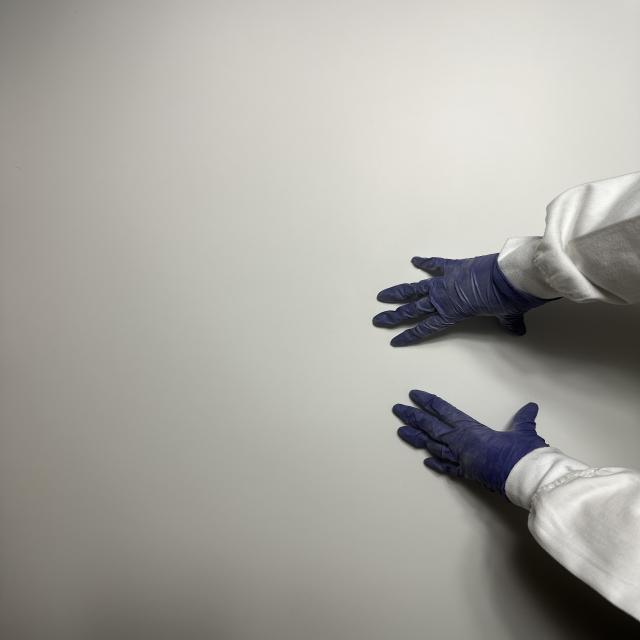gloves_contaminated: (393, 390, 549, 499), (372, 254, 548, 346)
